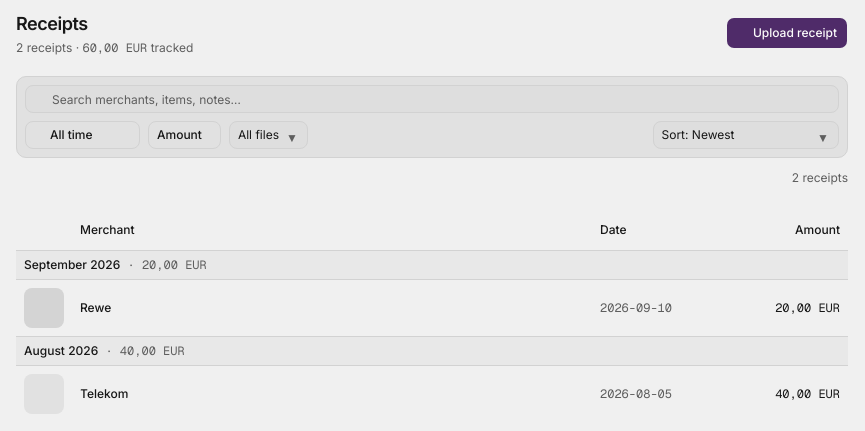
Scenario: ReceiptsPage › filters › filters by file type
expect the button "Rewe" is shown: met, box [80,300,111,316]
What coordinates should you click on to do the following:
click the dropdown named "File type"
I would click on:
 (268, 135)
Its box is [229,121,308,149].
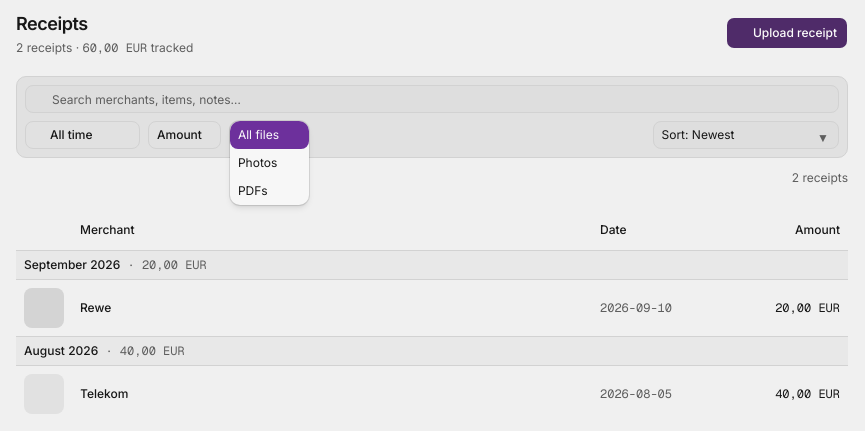
What coordinates should you click on to do the following:
click the option "PDFs"
I would click on:
 (253, 191)
Its box is [238,183,268,198].
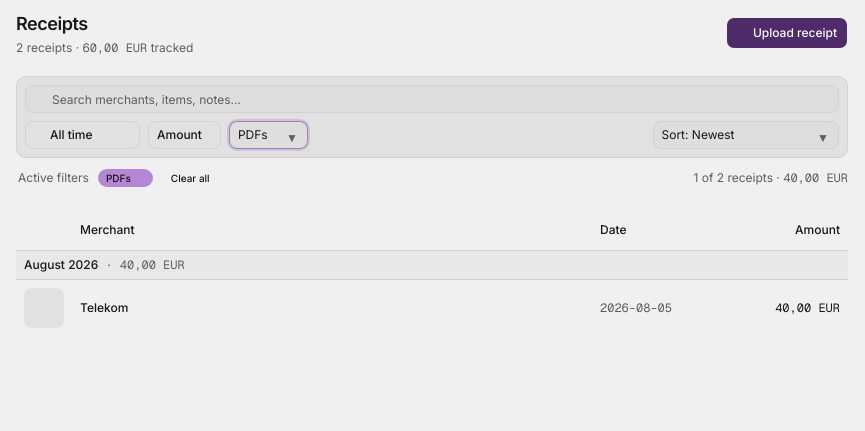
expect the button "Telekom" is shown: met, box [80,300,128,316]
expect the button "Rewe" is gone: met
